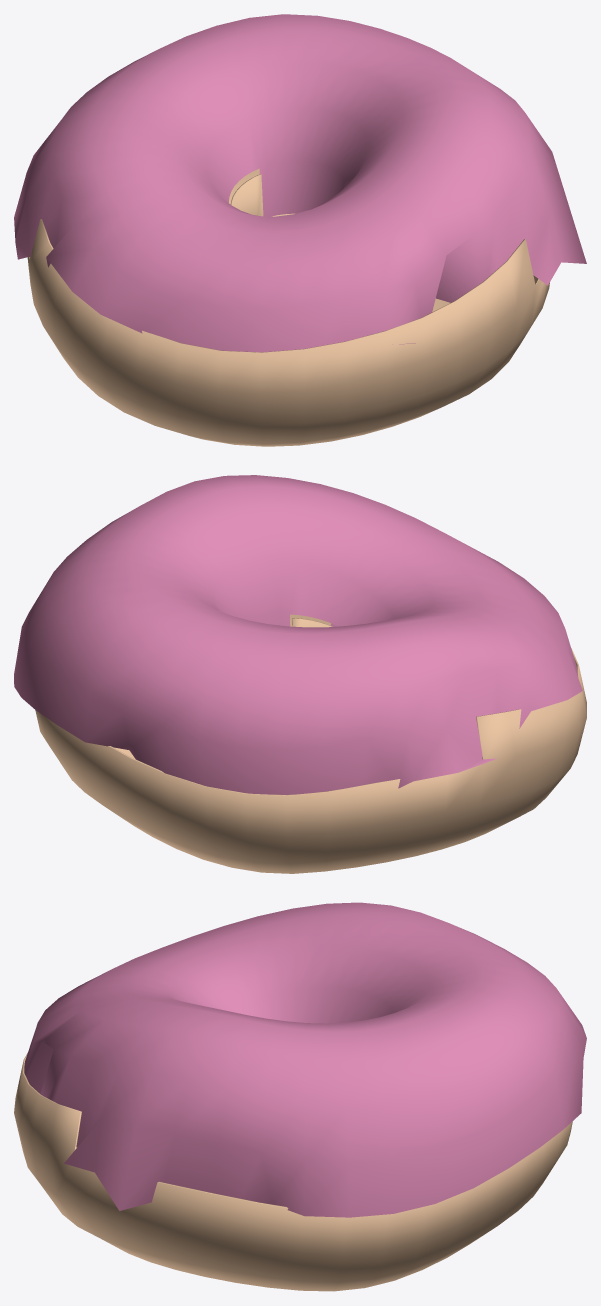
The picture shows the model from 3 angles, top to bottom: view 1: azimuth 30°, elevation 25°; view 2: azimuth 150°, elevation 25°; view 3: azimuth 270°, elevation 25°; orthographic projection. The views are drawn at different scales.
Parts seen in each view (by area): view 1: Icing, onut; view 2: Icing, onut; view 3: Icing, onut.
Boxes of the visible parts, bbox=[...] form: Icing: bbox=[14, 14, 586, 352]; onut: bbox=[27, 168, 549, 446]; Icing: bbox=[14, 475, 582, 794]; onut: bbox=[35, 614, 586, 873]; Icing: bbox=[24, 902, 586, 1217]; onut: bbox=[14, 1052, 572, 1291].
Bounding box in the file's own units: 10.64 × 5.42 × 10.61.
